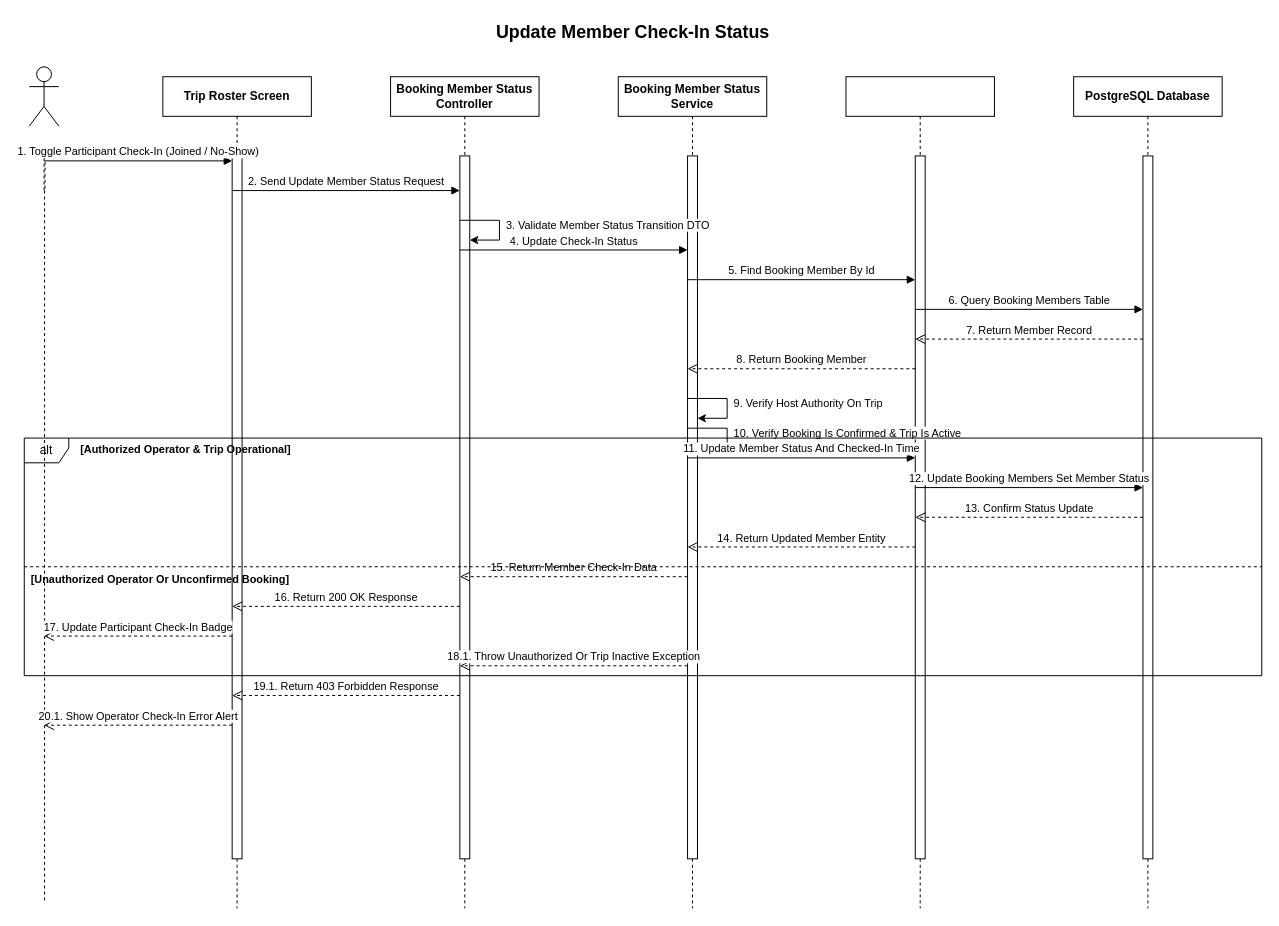
The diagram is 1279 pixels wide and 926 high, and some of its shapes have lost their labels. Here are the shapes that lost their labels. From the top down, the box of each, then its label:
(28, 66, 59, 126): Host
(845, 76, 994, 908): Booking Members Model
